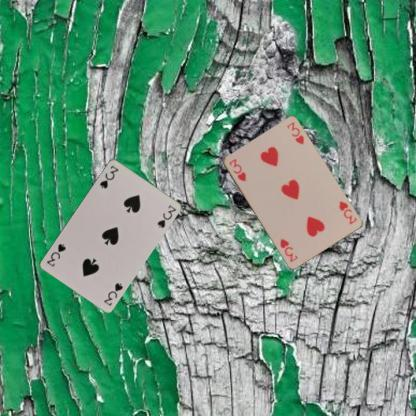3h: (336, 199, 358, 225), (226, 156, 247, 183)
3s: (97, 162, 120, 190), (101, 280, 124, 307)
